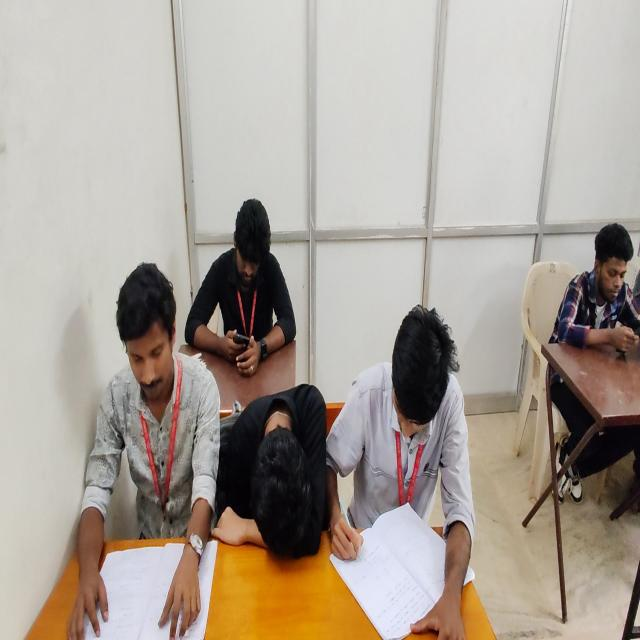reading: (72, 262, 222, 640)
sleeping: (216, 383, 324, 558)
using_mobile: (546, 222, 640, 508), (184, 197, 298, 373)
writing: (338, 303, 475, 640)
